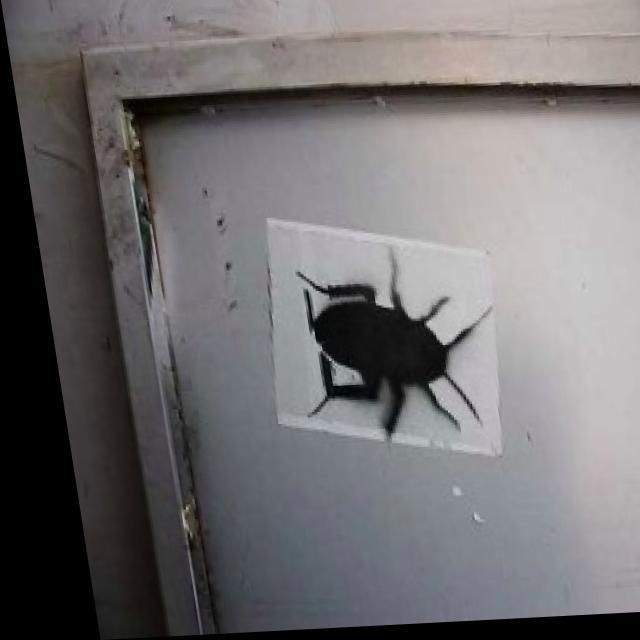cockroach: (291, 243, 494, 441)
